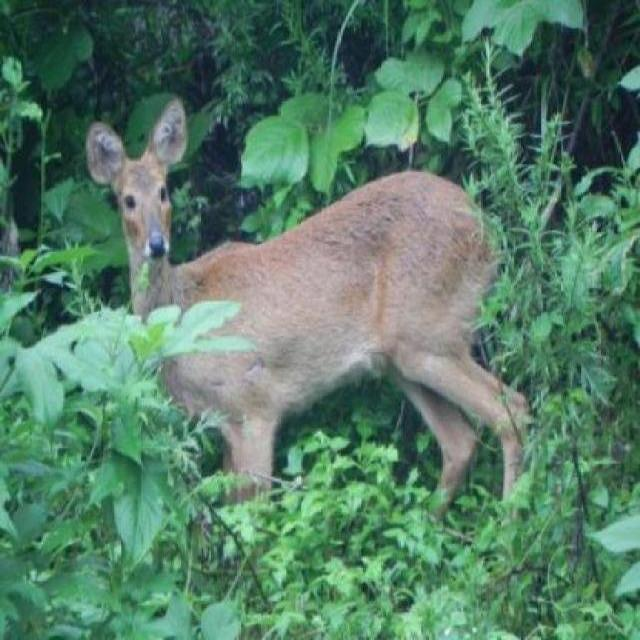deer: (84, 88, 536, 531)
